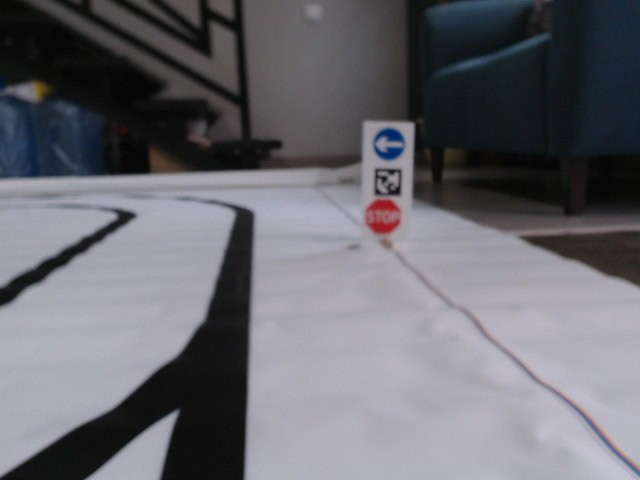Stop: (363, 198, 402, 236)
